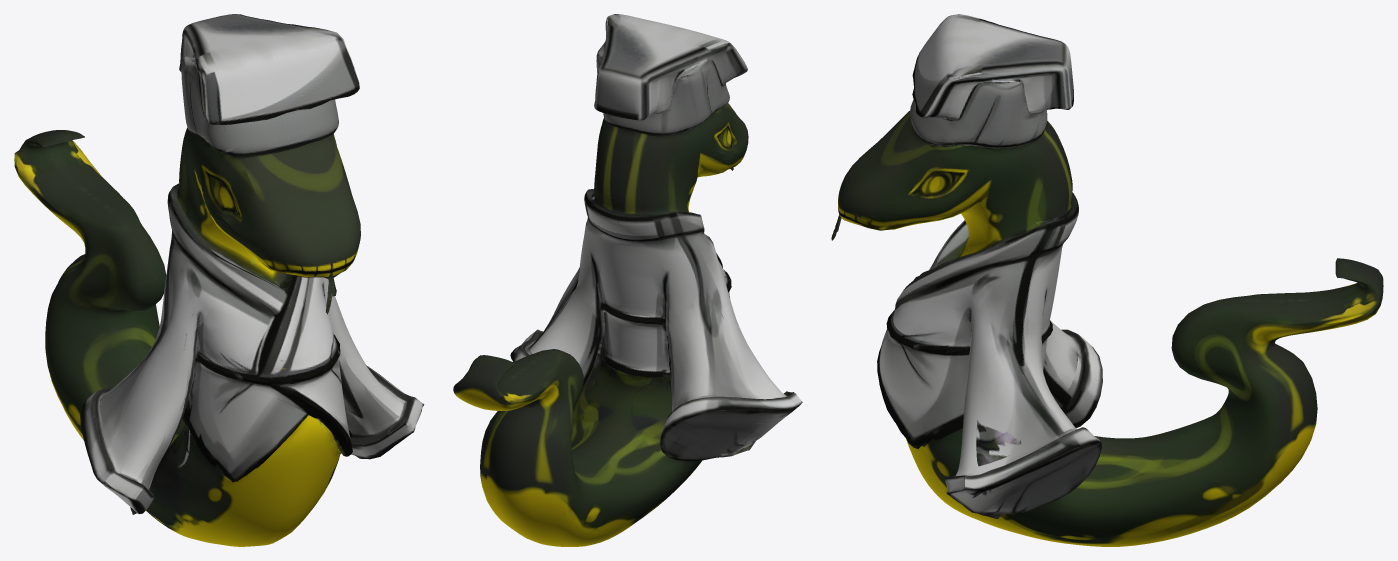
Rendered from Meshy_AI_Redshield_Warrior_0806024639_texture.fbx.
The picture shows the model from 3 angles, left to right: view 1: azimuth 30°, elevation 25°; view 2: azimuth 150°, elevation 25°; view 3: azimuth 270°, elevation 25°; orthographic projection. The views are drawn at different scales.
Visible parts, largest first — view 1: Mesh0; view 2: Mesh0; view 3: Mesh0.
Boxes of the visible parts, x1,y1,x2,y2 form: Mesh0: [14, 14, 424, 546]; Mesh0: [453, 14, 802, 546]; Mesh0: [831, 14, 1383, 546].
Bounding box in the file's own units: 101 × 160 × 161.
Materials: 1 (1 with a texture image).
